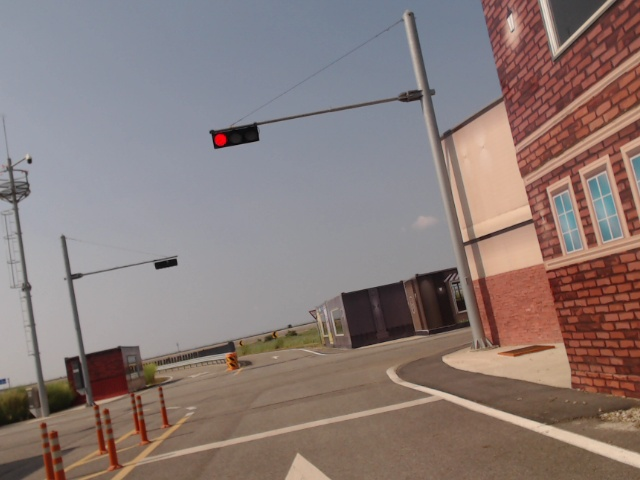red_3: (211, 123, 260, 149)
